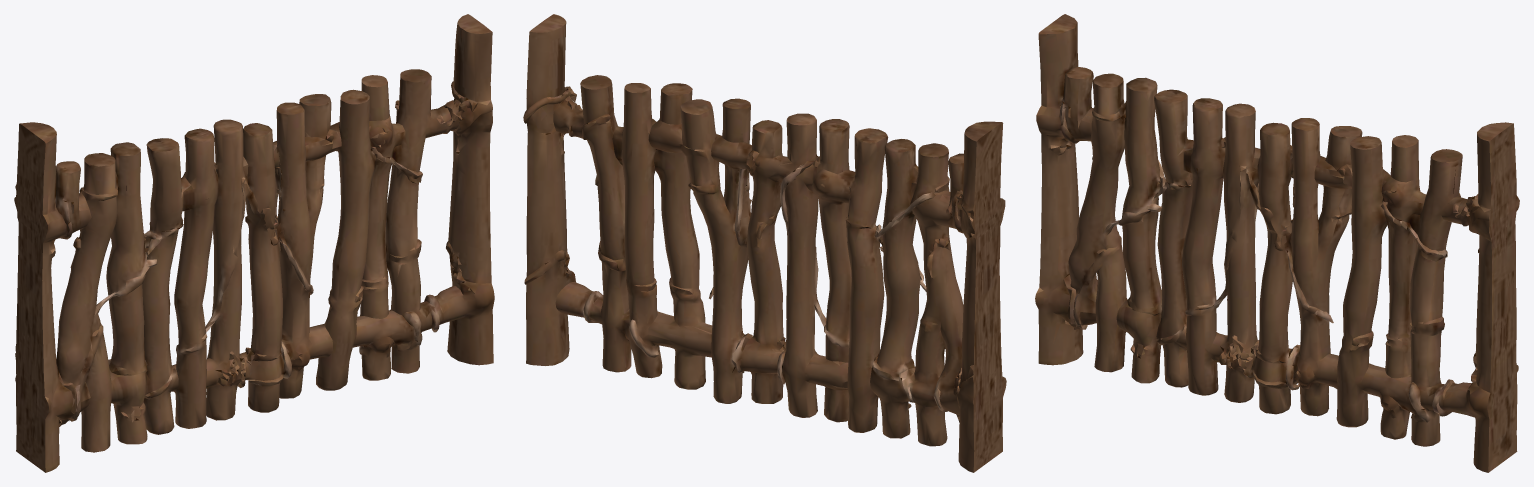
Rendered from FenceStick.glb.
The picture shows the model from 3 angles, left to right: view 1: azimuth 30°, elevation 25°; view 2: azimuth 150°, elevation 25°; view 3: azimuth 330°, elevation 25°; orthographic projection.
Visible parts, largest first — view 1: FenceStick; view 2: FenceStick; view 3: FenceStick.
Boxes of the visible parts, x1=… form: FenceStick: x1=14, y1=14, x2=494, y2=472; FenceStick: x1=523, y1=14, x2=1006, y2=472; FenceStick: x1=1035, y1=14, x2=1519, y2=472.
Size of the model in its own units: 1.87 by 1.32 by 0.258.
Materials: 1 (1 with a texture image).
